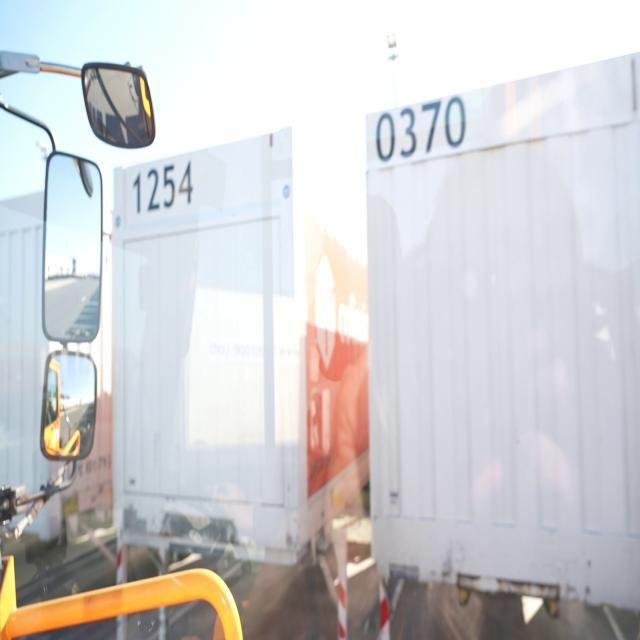Code: (371, 91, 470, 172), (126, 159, 202, 219)
